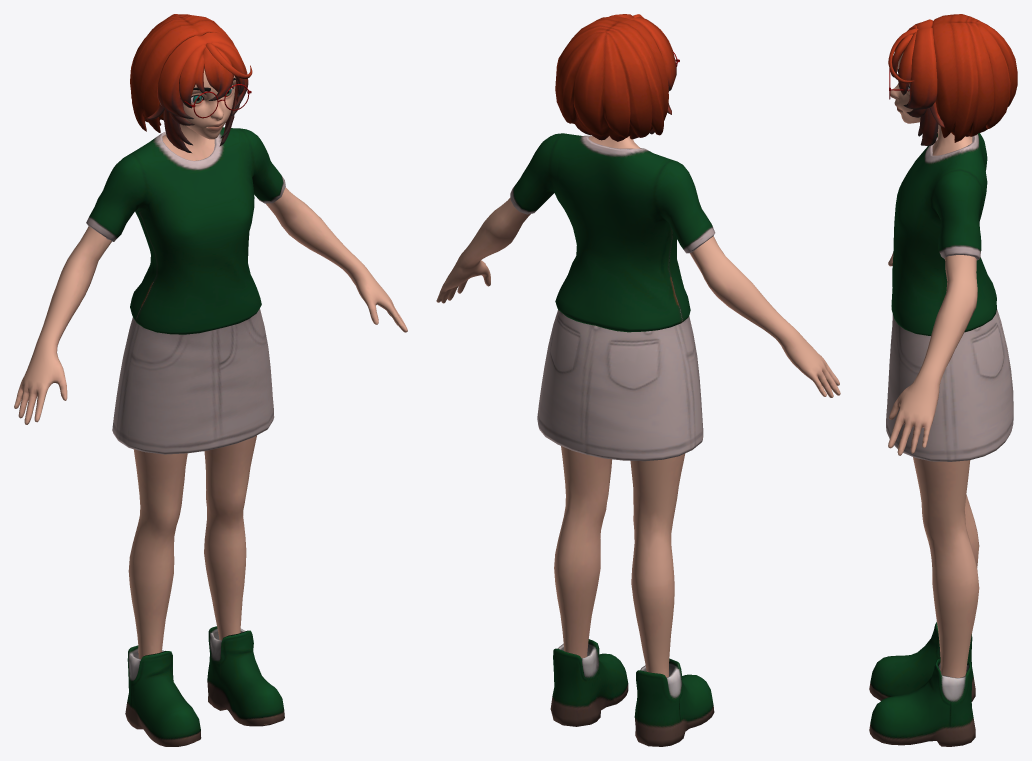
The model's file is Berry_Mesh.obj.
3 views of the same model, side by side, from view 1: azimuth 30°, elevation 25°; view 2: azimuth 150°, elevation 25°; view 3: azimuth 270°, elevation 25° (orthographic). The views are drawn at different scales.
Visible parts, largest first — view 1: Berry_Mesh_0; view 2: Berry_Mesh_0; view 3: Berry_Mesh_0.
Boxes of the visible parts, <box> form: Berry_Mesh_0: <box>14,14,407,746</box>; Berry_Mesh_0: <box>436,14,840,746</box>; Berry_Mesh_0: <box>869,14,1017,746</box>.
Bounding box in the file's own units: 1.06 × 1.82 × 0.3507.
1 material, 1 textured.
